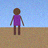person: (10, 8, 24, 35)
